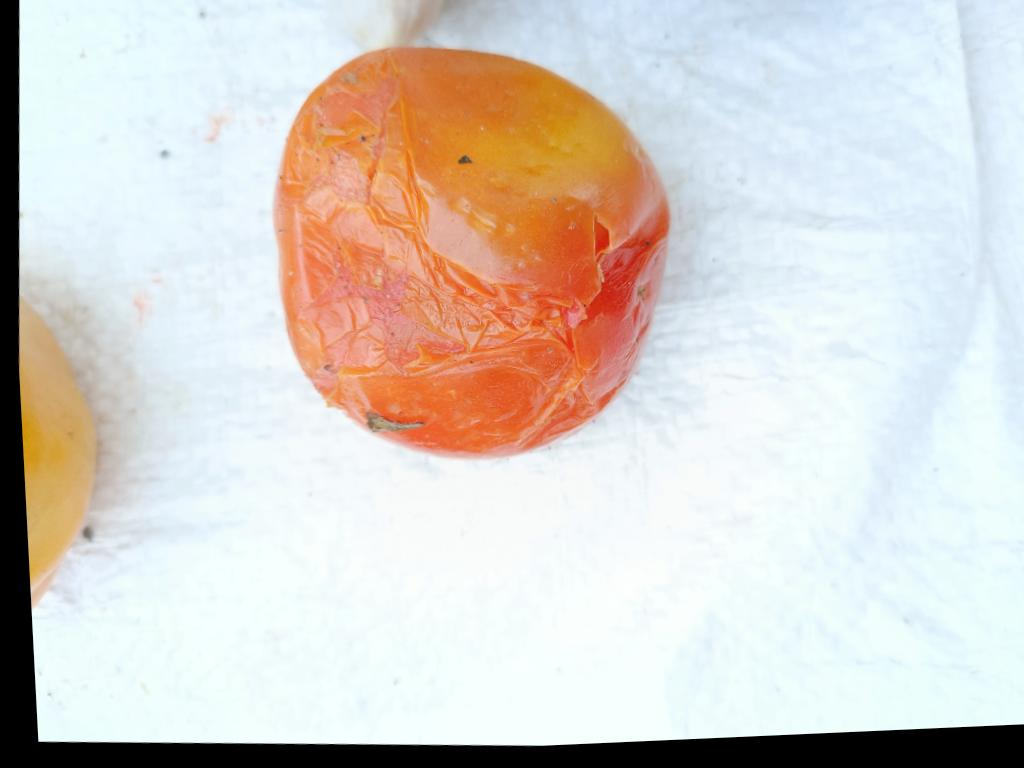surface_damage: (275, 57, 667, 458)
tomato: (275, 49, 668, 457)
